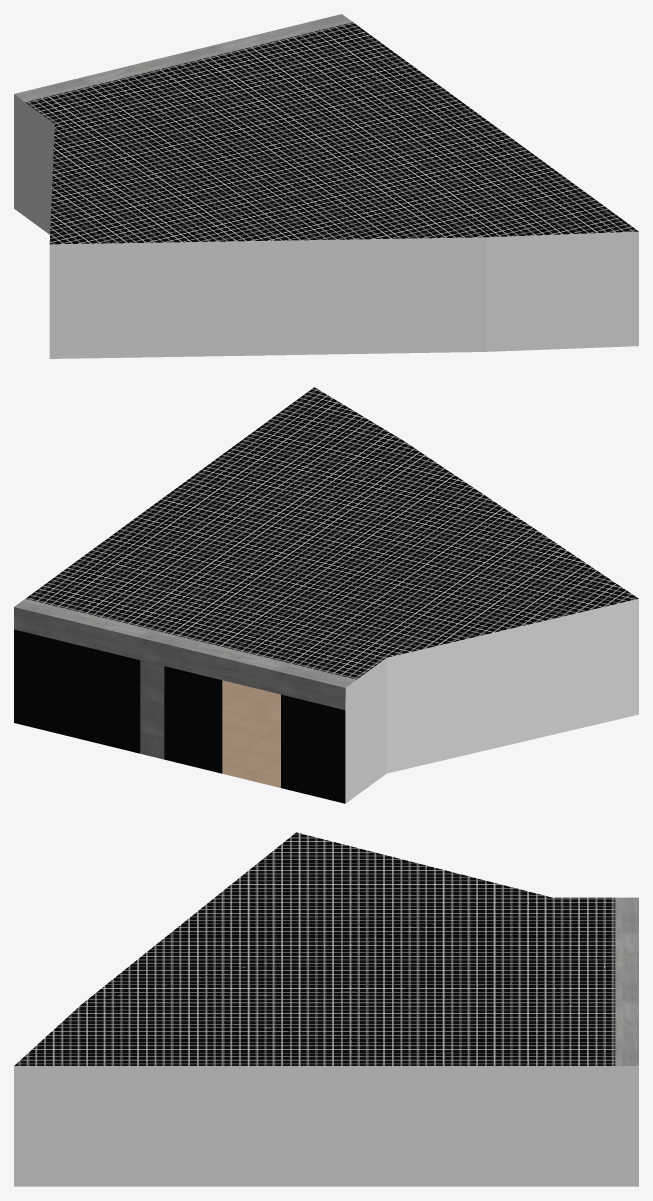
The model's file is SalaColab.glb.
The picture shows the model from 3 angles, top to bottom: view 1: azimuth 30°, elevation 25°; view 2: azimuth 150°, elevation 25°; view 3: azimuth 270°, elevation 25°; orthographic projection. The views are drawn at different scales.
Parts seen in each view (by area): view 1: Techo, Muros, Concreto; view 2: Techo, Muros, Ventanal, Concreto, Piso; view 3: Techo, Muros, Concreto.
Part boxes in pixels (x1,y1,x2,y2): Techo: (25, 22, 638, 244); Muros: (14, 94, 638, 358); Concreto: (14, 14, 352, 102); Techo: (25, 387, 638, 679); Muros: (345, 599, 638, 803); Ventanal: (14, 629, 345, 803); Concreto: (14, 599, 356, 759); Piso: (222, 680, 345, 803); Techo: (14, 832, 615, 1065); Muros: (14, 1066, 638, 1186); Concreto: (615, 897, 638, 1065).
Bounding box in the file's own units: 11.84 × 2.85 × 13.39.
Materials: 5 (3 with a texture image).
